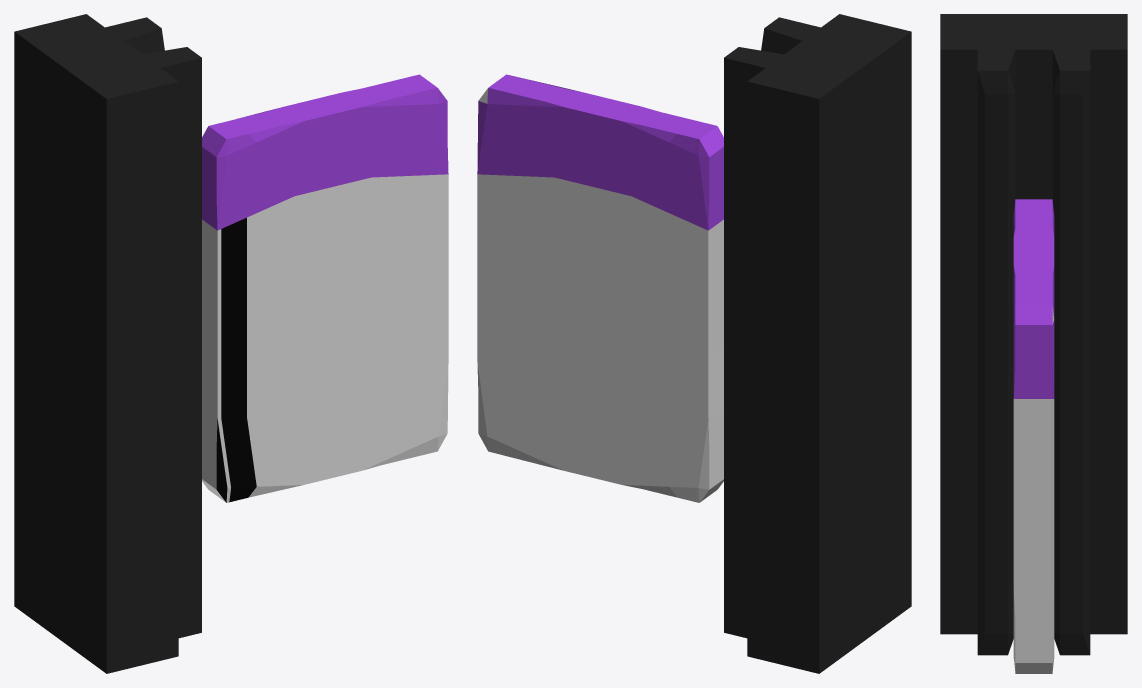
Rendered from jamavainkortti.fbx.
3 views of the same model, side by side, from view 1: azimuth 30°, elevation 25°; view 2: azimuth 150°, elevation 25°; view 3: azimuth 270°, elevation 25° (orthographic).
Visible parts, largest first — view 1: Cube.001, Cube; view 2: Cube.001, Cube; view 3: Cube.001, Cube.
Part boxes in pixels (left/top/right/bottom): Cube.001: left=14, top=14, right=201, bottom=673; Cube: left=202, top=74, right=448, bottom=502; Cube.001: left=724, top=14, right=911, bottom=673; Cube: left=477, top=74, right=723, bottom=502; Cube.001: left=940, top=14, right=1127, bottom=655; Cube: left=1013, top=199, right=1054, bottom=673.
Bounding box in the file's own units: 9.75 × 14.17 × 4.12.
